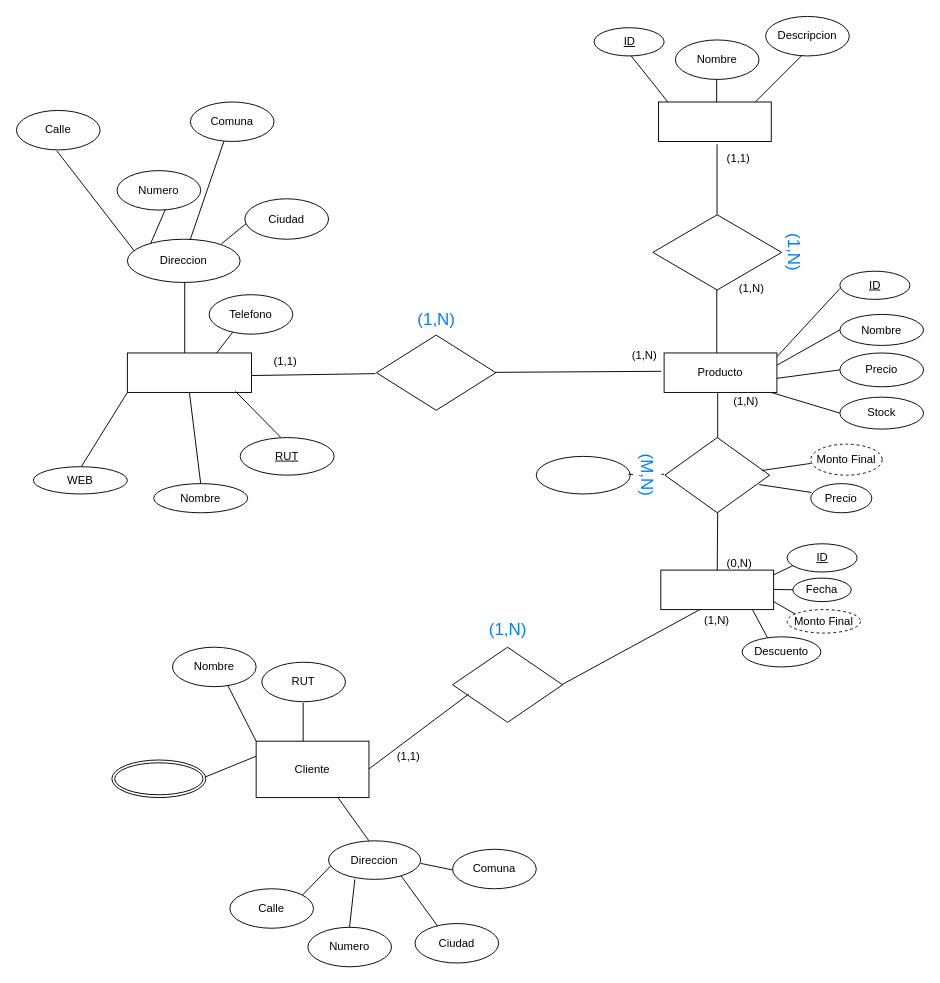
This 940x983 diagram has some shape labels left out. Each missing label, with the box of its shape:
Cantidad: (535, 455, 630, 494)
Categoria: (658, 101, 771, 141)
Compra: (452, 646, 563, 722)
Detalle: (664, 437, 770, 513)
Provedoor: (126, 352, 251, 392)
Provee: (376, 334, 496, 410)
Se clasifica: (652, 214, 782, 290)
Telefonos: (111, 759, 206, 798)
Venta: (660, 569, 774, 610)
